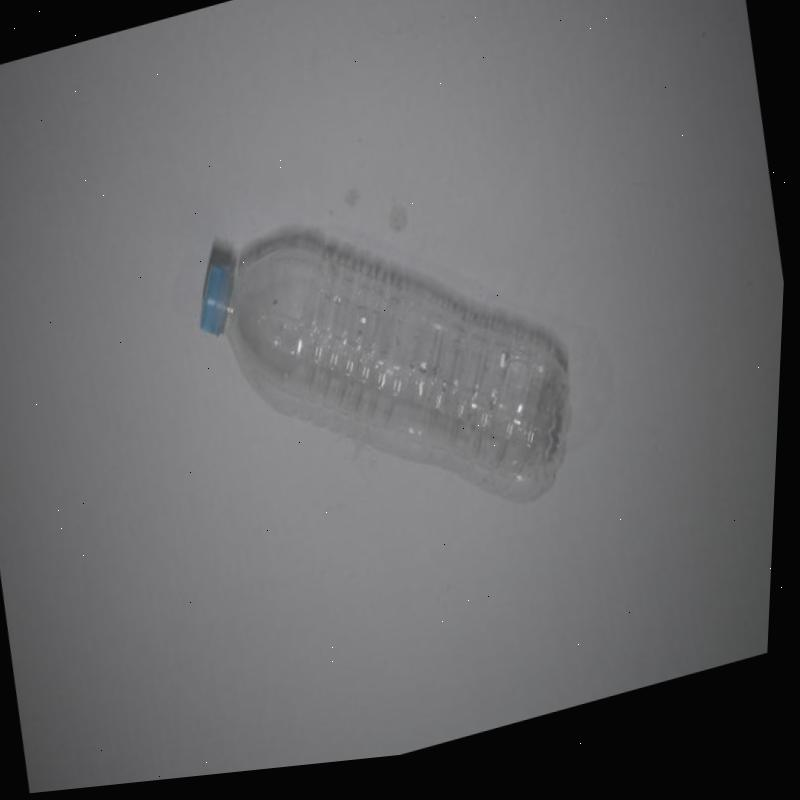botella: (182, 180, 598, 597)
